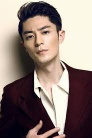male: (15, 4, 68, 68)
